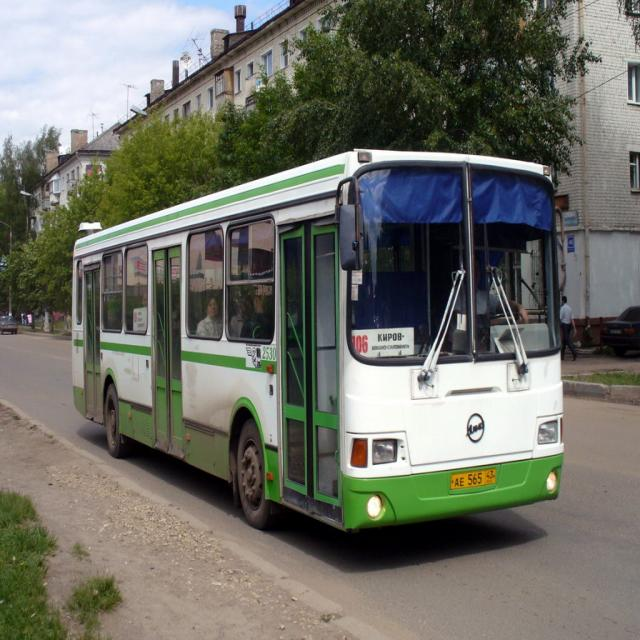number-of-bus: (349, 335, 371, 357)
